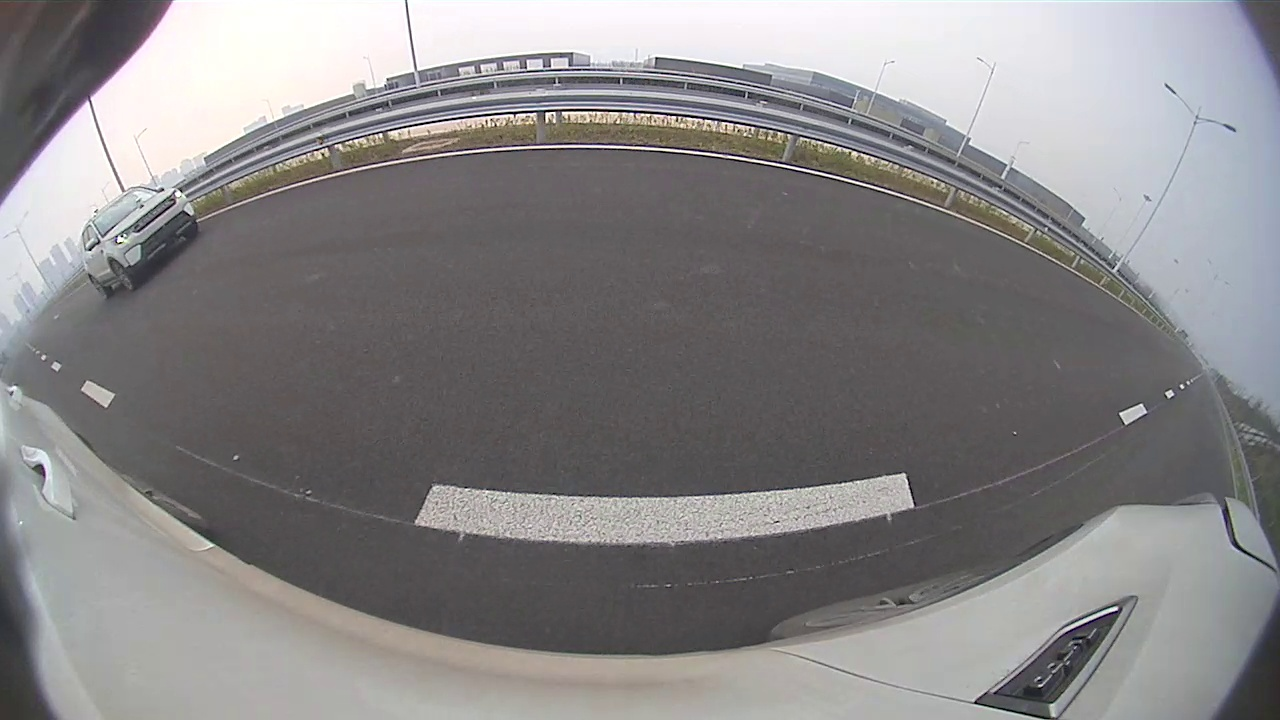car: (80, 184, 200, 299)
front: (108, 260, 137, 293)
